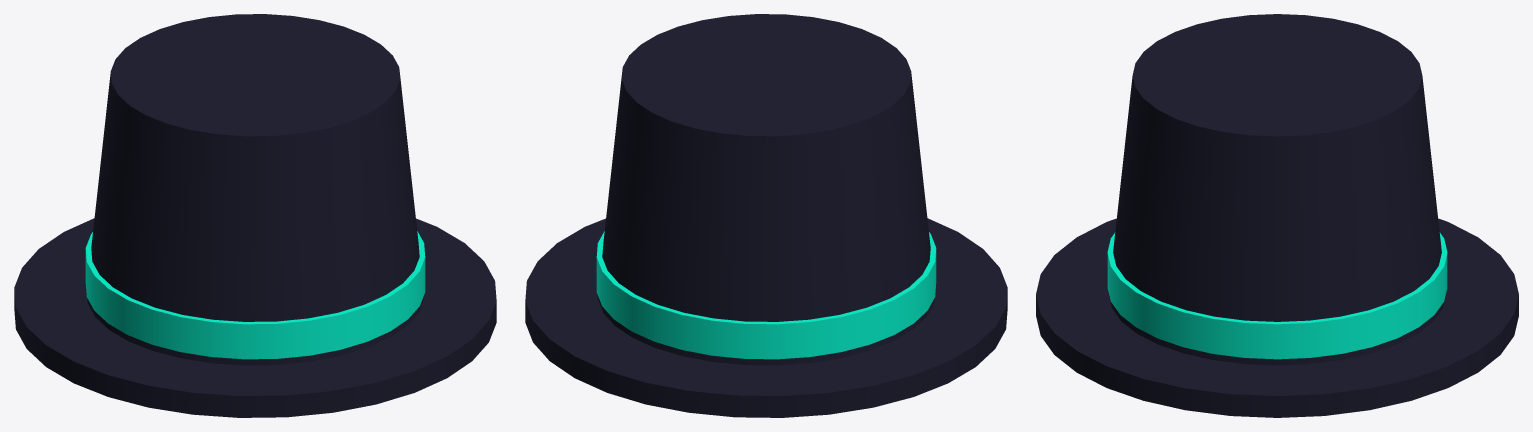
The model's file is hat.glb.
The picture shows the model from 3 angles, left to right: view 1: azimuth 30°, elevation 25°; view 2: azimuth 150°, elevation 25°; view 3: azimuth 270°, elevation 25°; orthographic projection.
Parts seen in each view (by area): view 1: Crown, Brim, Ribbon; view 2: Crown, Brim, Ribbon; view 3: Crown, Brim, Ribbon.
Part boxes in pixels (<box>): Crown: <box>87,14,424,365</box>; Brim: <box>14,218,496,417</box>; Ribbon: <box>85,231,425,359</box>; Crown: <box>597,14,934,365</box>; Brim: <box>525,218,1007,417</box>; Ribbon: <box>596,231,936,359</box>; Crown: <box>1108,14,1446,365</box>; Brim: <box>1036,218,1518,417</box>; Ribbon: <box>1107,232,1447,359</box>.
Size of the model in its own units: 1 by 0.55 by 1.
